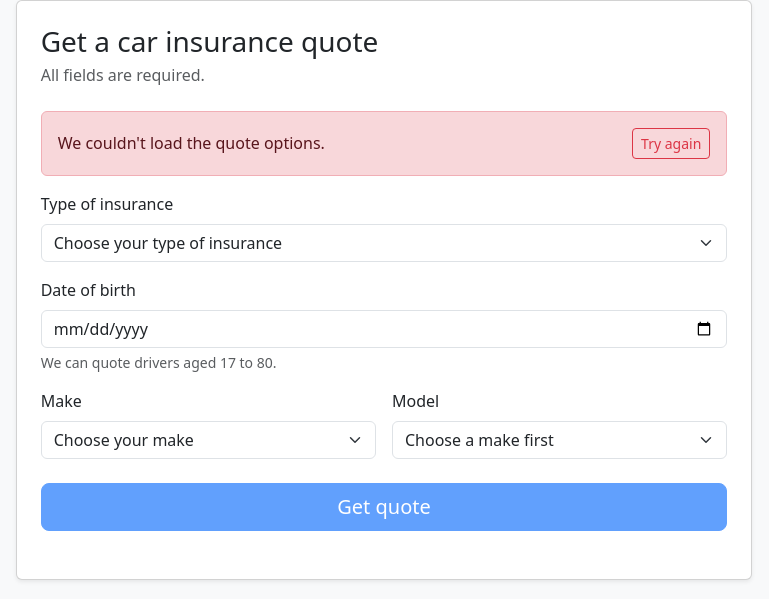
QuoteFormComponent › offers a retry when the quote options cannot be loaded
Expected: the submit button is disabled, [41,483,727,531]
Click the button "Try again": (671, 143) [632,128,710,159]
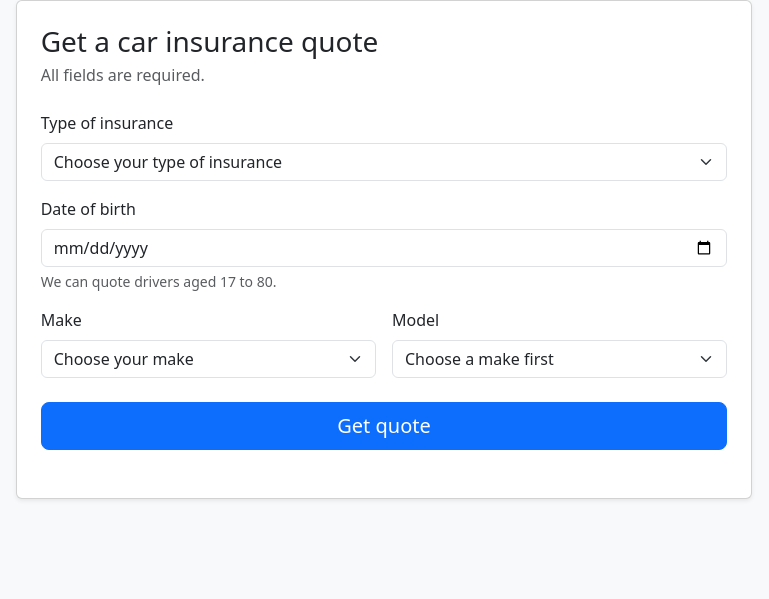
Now the message with class "alert-danger" is gone
Now the submit button is enabled, box [41,402,727,450]
